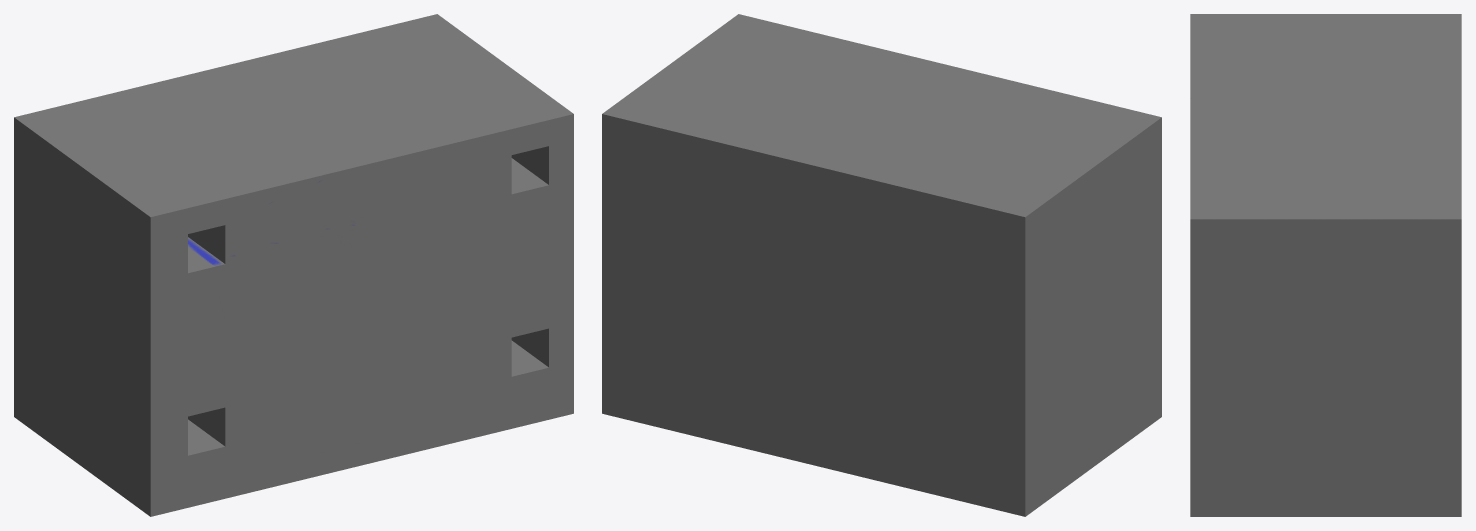
File: AC_Unit.glb
3 views of the same model, side by side, from view 1: azimuth 30°, elevation 25°; view 2: azimuth 150°, elevation 25°; view 3: azimuth 270°, elevation 25° (orthographic).
Parts seen in each view (by area): view 1: node_id3; view 2: node_id3; view 3: node_id3.
Boxes of the visible parts, x1,y1,x2,y2 form: node_id3: [14, 14, 573, 516]; node_id3: [602, 14, 1161, 516]; node_id3: [1190, 14, 1461, 516].
Size of the model in its own units: 0.512 by 0.3464 by 0.2861.
1 material, 1 textured.
